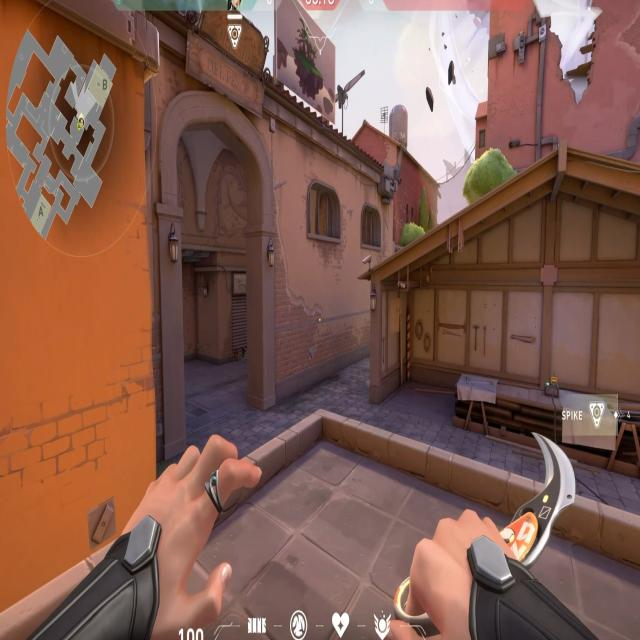B_Garage_Left: (369, 263, 488, 423)
Throwables: (306, 178, 344, 247), (360, 203, 383, 251)
